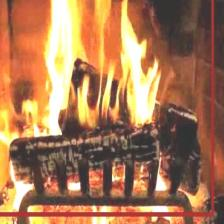fire: (0, 0, 213, 216)
